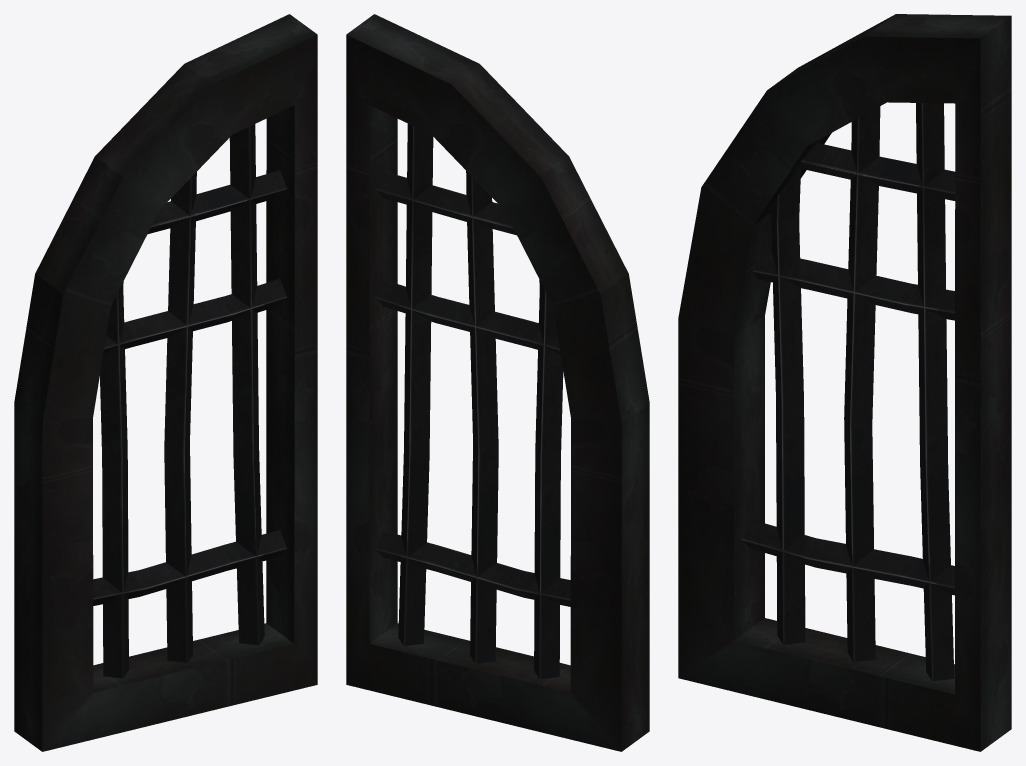
The model's file is sewer_door001_l.FBX.
3 renders of one model, left to right at view 1: azimuth 30°, elevation 25°; view 2: azimuth 150°, elevation 25°; view 3: azimuth 330°, elevation 25°, orthographic. The views are drawn at different scales.
Visible parts, largest first — view 1: sewer_door001_l; view 2: sewer_door001_l; view 3: sewer_door001_l.
Part boxes in pixels (<box>): sewer_door001_l: <box>14,14,317,751</box>; sewer_door001_l: <box>346,14,649,751</box>; sewer_door001_l: <box>678,14,1011,751</box>.
Bounding box in the file's own units: 303 × 684 × 53.88.
